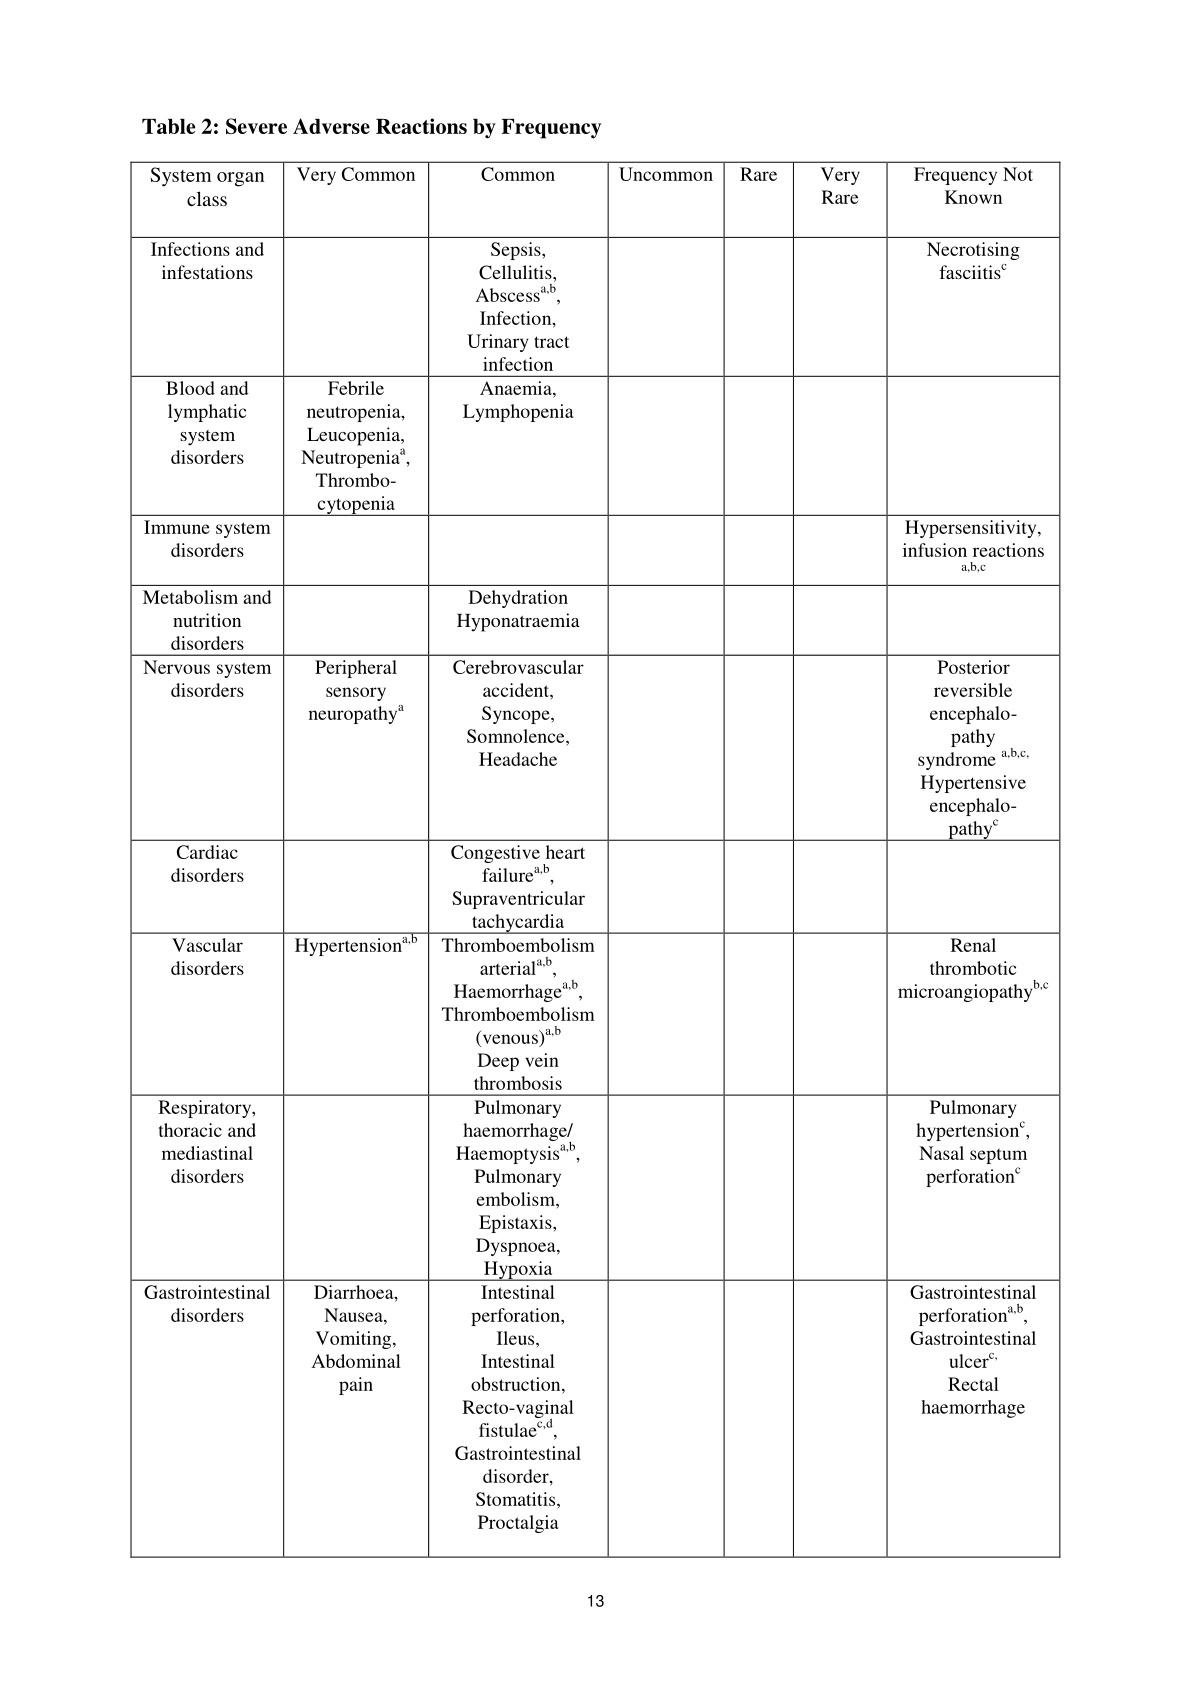full_lined: (130, 161, 1061, 1557)
